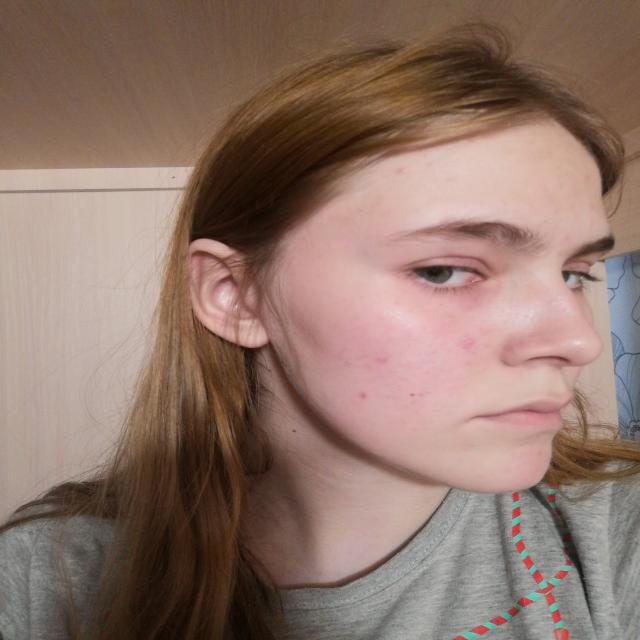Acne: (457, 336, 478, 351), (373, 353, 391, 366), (499, 342, 516, 354), (393, 164, 406, 178), (355, 392, 371, 400), (559, 234, 573, 243), (584, 172, 593, 184), (589, 219, 598, 229), (586, 201, 594, 211)
